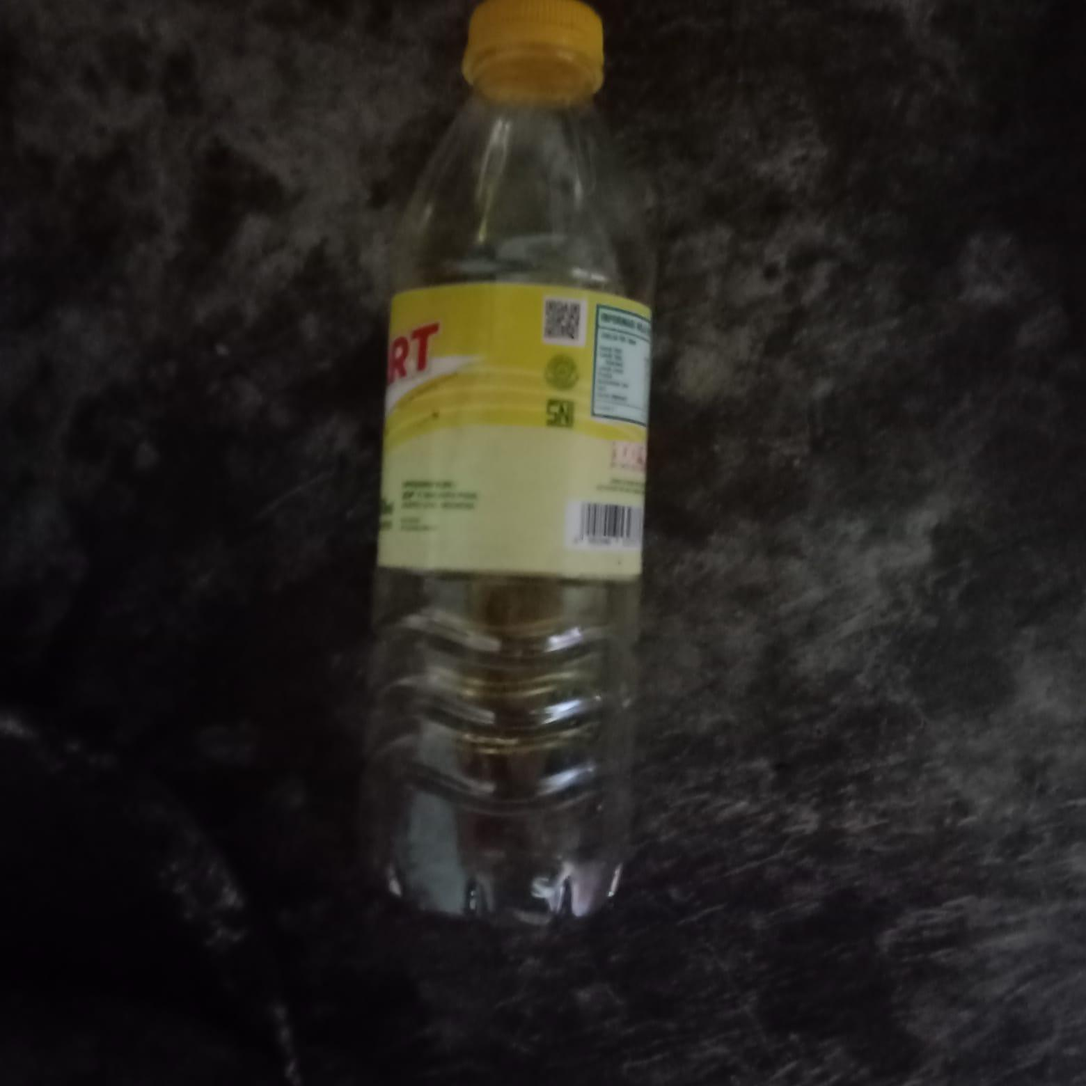Plastik: (375, 0, 654, 944)
